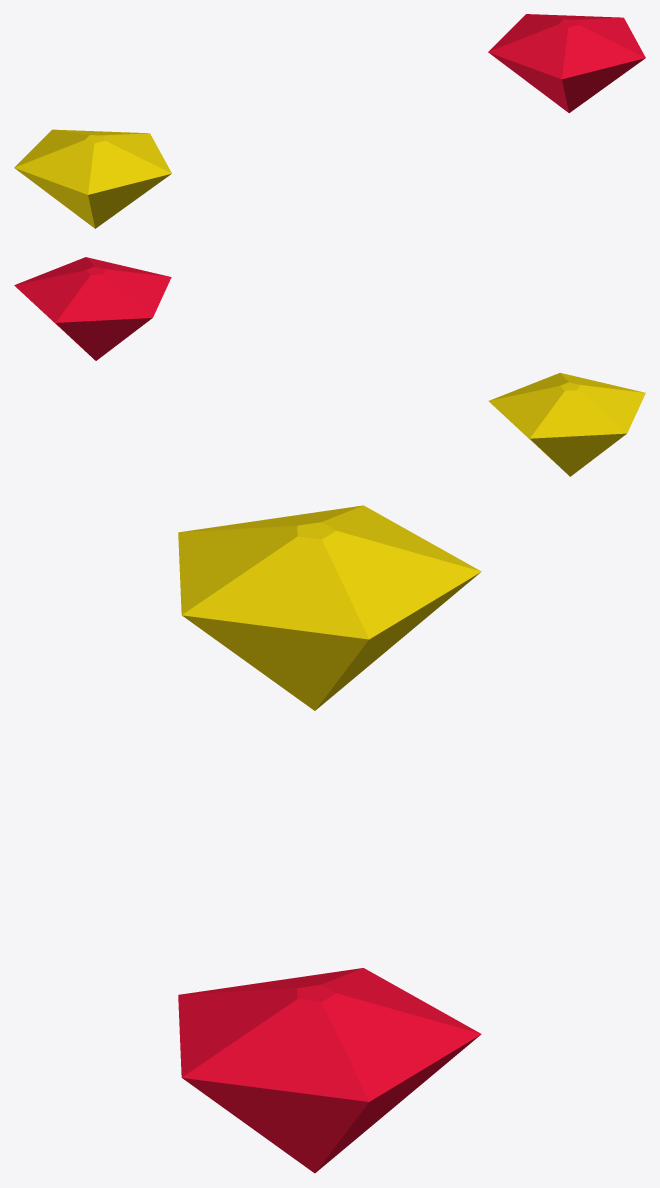
File: Gems.fbx
The picture shows the model from 3 angles, top to bottom: view 1: azimuth 30°, elevation 25°; view 2: azimuth 150°, elevation 25°; view 3: azimuth 270°, elevation 25°; orthographic projection. The views are drawn at different scales.
Parts seen in each view (by area): view 1: GemRed, GemRed.001; view 2: GemRed.001, GemRed; view 3: GemRed, GemRed.001.
Part boxes in pixels (x1=…): GemRed: x1=488, y1=14, x2=645, y2=112; GemRed.001: x1=14, y1=129, x2=171, y2=228; GemRed.001: x1=488, y1=373, x2=645, y2=476; GemRed: x1=14, y1=257, x2=171, y2=360; GemRed: x1=178, y1=968, x2=481, y2=1173; GemRed.001: x1=178, y1=505, x2=481, y2=710.
Bounding box in the file's own units: 0.9022 × 0.127 × 0.194.
